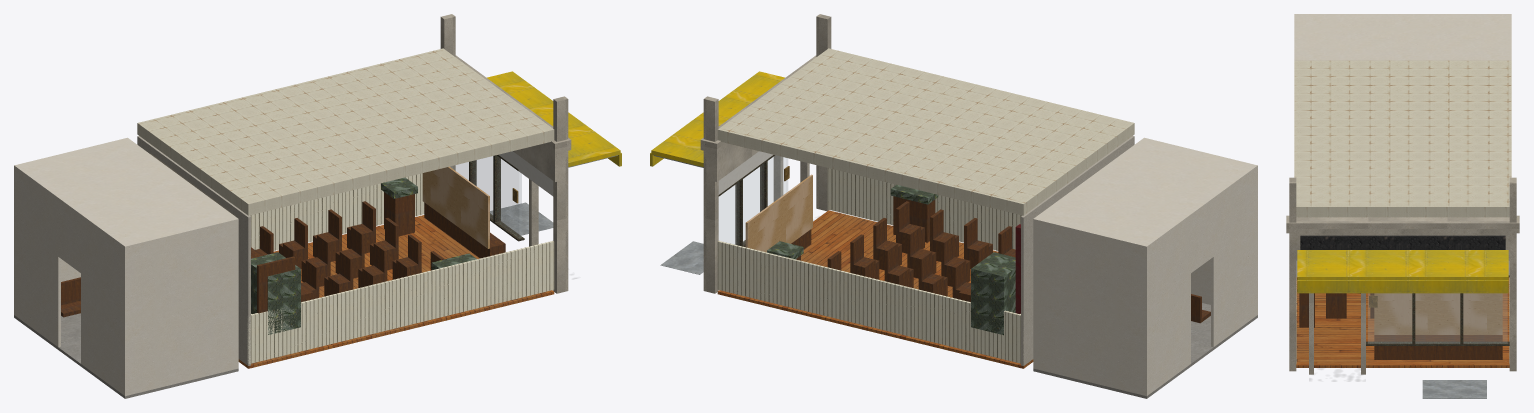
Rendered from shop_funeral_parlour.gltf.
The picture shows the model from 3 angles, left to right: view 1: azimuth 30°, elevation 25°; view 2: azimuth 150°, elevation 25°; view 3: azimuth 270°, elevation 25°; orthographic projection. The views are drawn at different scales.
Parts seen in each view (by area): view 1: F01_OWN_SHOP_FUNERAL_PARLOUR_retail_shop_funeral_parlour_pla (×3), F01_OWN_SHOP_FUNERAL_PARLOUR_retail_shop_funeral_parlour_tin, F01_OWN_SHOP_FUNERAL_PARLOUR_retail_shop_funeral_parlour_wai, F01_OWN_SHOP_FUNERAL_PARLOUR_retail_shop_funeral_parlour_woo, F01_OWN_SHOP_FUNERAL_PARLOUR_retail_shop_funeral_parlour_lim, F01_OWN_SHOP_FUNERAL_PARLOUR_retail_shop_funeral_parlour_flo, F01_OWN_SHOP_FUNERAL_PARLOUR_retail_shop_funeral_parlour_ply, F01_OWN_SHOP_FUNERAL_PARLOUR_retail_shop_funeral_parlour_awn, F01_OWN_SHOP_FUNERAL_PARLOUR_retail_shop_funeral_parlour_gla, F01_OWN_SHOP_FUNERAL_PARLOUR_retail_shop_funeral_parlour_con, F01_OWN_SHOP_FUNERAL_PARLOUR_retail_shop_funeral_parlour_met, F01_OWN_SHOP_FUNERAL_PARLOUR_retail_shop_funeral_parlour_bro (+1 smaller); view 2: F01_OWN_SHOP_FUNERAL_PARLOUR_retail_shop_funeral_parlour_pla (×3), F01_OWN_SHOP_FUNERAL_PARLOUR_retail_shop_funeral_parlour_tin, F01_OWN_SHOP_FUNERAL_PARLOUR_retail_shop_funeral_parlour_wai, F01_OWN_SHOP_FUNERAL_PARLOUR_retail_shop_funeral_parlour_woo, F01_OWN_SHOP_FUNERAL_PARLOUR_retail_shop_funeral_parlour_lim, F01_OWN_SHOP_FUNERAL_PARLOUR_retail_shop_funeral_parlour_flo, F01_OWN_SHOP_FUNERAL_PARLOUR_retail_shop_funeral_parlour_ply, F01_OWN_SHOP_FUNERAL_PARLOUR_retail_shop_funeral_parlour_awn, F01_OWN_SHOP_FUNERAL_PARLOUR_retail_shop_funeral_parlour_gla, F01_OWN_SHOP_FUNERAL_PARLOUR_retail_shop_funeral_parlour_con, F01_OWN_SHOP_FUNERAL_PARLOUR_retail_shop_funeral_parlour_bro, F01_OWN_SHOP_FUNERAL_PARLOUR_retail_shop_funeral_parlour_met (+2 smaller); view 3: F01_OWN_SHOP_FUNERAL_PARLOUR_retail_shop_funeral_parlour_tin, F01_OWN_SHOP_FUNERAL_PARLOUR_retail_shop_funeral_parlour_pla, F01_OWN_SHOP_FUNERAL_PARLOUR_retail_shop_funeral_parlour_awn, F01_OWN_SHOP_FUNERAL_PARLOUR_retail_shop_funeral_parlour_lim, F01_OWN_SHOP_FUNERAL_PARLOUR_retail_shop_funeral_parlour_gla, F01_OWN_SHOP_FUNERAL_PARLOUR_retail_shop_funeral_parlour_flo, F01_OWN_SHOP_FUNERAL_PARLOUR_retail_shop_funeral_parlour_ply, F01_OWN_SHOP_FUNERAL_PARLOUR_retail_shop_funeral_parlour_woo, F01_OWN_SHOP_FUNERAL_PARLOUR_retail_shop_funeral_parlour_soo, F01_OWN_SHOP_FUNERAL_PARLOUR_retail_shop_funeral_parlour_met, F01_OWN_SHOP_FUNERAL_PARLOUR_retail_shop_funeral_parlour_bro.
Boxes of the visible parts, x1=… form: F01_OWN_SHOP_FUNERAL_PARLOUR_retail_shop_funeral_parlour_pla (×3): x1=14, y1=136, x2=476, y2=396; F01_OWN_SHOP_FUNERAL_PARLOUR_retail_shop_funeral_parlour_tin: x1=137, y1=48, x2=554, y2=215; F01_OWN_SHOP_FUNERAL_PARLOUR_retail_shop_funeral_parlour_wai: x1=247, y1=173, x2=554, y2=363; F01_OWN_SHOP_FUNERAL_PARLOUR_retail_shop_funeral_parlour_woo: x1=61, y1=192, x2=505, y2=317; F01_OWN_SHOP_FUNERAL_PARLOUR_retail_shop_funeral_parlour_lim: x1=440, y1=14, x2=571, y2=293; F01_OWN_SHOP_FUNERAL_PARLOUR_retail_shop_funeral_parlour_flo: x1=238, y1=215, x2=554, y2=368; F01_OWN_SHOP_FUNERAL_PARLOUR_retail_shop_funeral_parlour_ply: x1=422, y1=166, x2=489, y2=248; F01_OWN_SHOP_FUNERAL_PARLOUR_retail_shop_funeral_parlour_awn: x1=487, y1=71, x2=621, y2=166; F01_OWN_SHOP_FUNERAL_PARLOUR_retail_shop_funeral_parlour_gla: x1=450, y1=156, x2=521, y2=238; F01_OWN_SHOP_FUNERAL_PARLOUR_retail_shop_funeral_parlour_con: x1=14, y1=313, x2=238, y2=398; F01_OWN_SHOP_FUNERAL_PARLOUR_retail_shop_funeral_parlour_met: x1=490, y1=155, x2=617, y2=235; F01_OWN_SHOP_FUNERAL_PARLOUR_retail_shop_funeral_parlour_bro: x1=469, y1=155, x2=524, y2=241; F01_OWN_SHOP_FUNERAL_PARLOUR_retail_shop_funeral_parlour_pla (×3): x1=767, y1=136, x2=1257, y2=396; F01_OWN_SHOP_FUNERAL_PARLOUR_retail_shop_funeral_parlour_tin: x1=717, y1=48, x2=1134, y2=215; F01_OWN_SHOP_FUNERAL_PARLOUR_retail_shop_funeral_parlour_wai: x1=717, y1=168, x2=1023, y2=363; F01_OWN_SHOP_FUNERAL_PARLOUR_retail_shop_funeral_parlour_woo: x1=791, y1=196, x2=1210, y2=323; F01_OWN_SHOP_FUNERAL_PARLOUR_retail_shop_funeral_parlour_lim: x1=700, y1=14, x2=831, y2=293; F01_OWN_SHOP_FUNERAL_PARLOUR_retail_shop_funeral_parlour_flo: x1=717, y1=210, x2=1033, y2=368; F01_OWN_SHOP_FUNERAL_PARLOUR_retail_shop_funeral_parlour_ply: x1=745, y1=174, x2=812, y2=252; F01_OWN_SHOP_FUNERAL_PARLOUR_retail_shop_funeral_parlour_awn: x1=650, y1=71, x2=784, y2=166; F01_OWN_SHOP_FUNERAL_PARLOUR_retail_shop_funeral_parlour_gla: x1=719, y1=155, x2=787, y2=244; F01_OWN_SHOP_FUNERAL_PARLOUR_retail_shop_funeral_parlour_con: x1=1033, y1=303, x2=1257, y2=398; F01_OWN_SHOP_FUNERAL_PARLOUR_retail_shop_funeral_parlour_bro: x1=718, y1=155, x2=774, y2=246; F01_OWN_SHOP_FUNERAL_PARLOUR_retail_shop_funeral_parlour_met: x1=653, y1=155, x2=703, y2=274; F01_OWN_SHOP_FUNERAL_PARLOUR_retail_shop_funeral_parlour_tin: x1=1294, y1=60, x2=1511, y2=217; F01_OWN_SHOP_FUNERAL_PARLOUR_retail_shop_funeral_parlour_pla: x1=1294, y1=14, x2=1511, y2=60; F01_OWN_SHOP_FUNERAL_PARLOUR_retail_shop_funeral_parlour_awn: x1=1297, y1=250, x2=1508, y2=293; F01_OWN_SHOP_FUNERAL_PARLOUR_retail_shop_funeral_parlour_lim: x1=1286, y1=177, x2=1519, y2=374; F01_OWN_SHOP_FUNERAL_PARLOUR_retail_shop_funeral_parlour_gla: x1=1368, y1=293, x2=1507, y2=343; F01_OWN_SHOP_FUNERAL_PARLOUR_retail_shop_funeral_parlour_flo: x1=1296, y1=277, x2=1509, y2=367; F01_OWN_SHOP_FUNERAL_PARLOUR_retail_shop_funeral_parlour_ply: x1=1374, y1=293, x2=1502, y2=334; F01_OWN_SHOP_FUNERAL_PARLOUR_retail_shop_funeral_parlour_woo: x1=1299, y1=293, x2=1502, y2=359; F01_OWN_SHOP_FUNERAL_PARLOUR_retail_shop_funeral_parlour_soo: x1=1300, y1=235, x2=1505, y2=249; F01_OWN_SHOP_FUNERAL_PARLOUR_retail_shop_funeral_parlour_met: x1=1422, y1=380, x2=1486, y2=398; F01_OWN_SHOP_FUNERAL_PARLOUR_retail_shop_funeral_parlour_bro: x1=1366, y1=275, x2=1509, y2=345.
Size of the model in its own units: 11.42 by 4.25 by 4.72.
24 materials, 23 textured.
